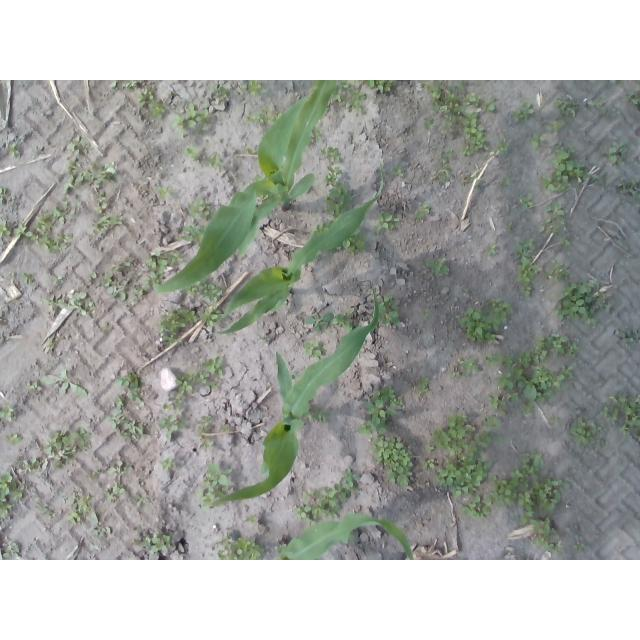Maize: (156, 80, 338, 293), (215, 285, 377, 506), (216, 161, 385, 338), (266, 513, 414, 560)
Weeds: (296, 468, 361, 524), (489, 450, 544, 507), (515, 473, 571, 527), (495, 365, 574, 403), (552, 279, 612, 329), (455, 296, 514, 344), (434, 457, 495, 500), (541, 140, 590, 192), (356, 385, 404, 437), (371, 434, 416, 489), (425, 412, 476, 456), (43, 427, 93, 469), (61, 158, 115, 195), (425, 80, 464, 124), (514, 239, 543, 298), (106, 395, 143, 441), (197, 462, 231, 512), (157, 306, 198, 347), (600, 393, 640, 435), (43, 289, 96, 318), (40, 368, 88, 398), (170, 103, 211, 137), (529, 517, 563, 556), (568, 416, 609, 448), (460, 112, 489, 157), (534, 333, 579, 360), (0, 469, 24, 518), (176, 368, 218, 396), (217, 536, 264, 560), (182, 275, 223, 302), (325, 87, 367, 113), (324, 181, 352, 219), (538, 200, 567, 236), (66, 490, 94, 525), (30, 231, 74, 253), (468, 430, 505, 456), (145, 251, 168, 289), (340, 227, 368, 257), (133, 533, 171, 555), (460, 495, 493, 520), (104, 267, 128, 301), (375, 295, 402, 325), (157, 415, 187, 442), (245, 107, 283, 126), (91, 214, 122, 236), (178, 225, 207, 248), (544, 258, 570, 283), (195, 415, 214, 449), (113, 370, 145, 390), (451, 358, 480, 379), (604, 140, 629, 164), (303, 311, 331, 332), (300, 405, 332, 423), (187, 198, 212, 221), (331, 308, 355, 331), (89, 510, 108, 539), (511, 100, 534, 123), (556, 95, 580, 117), (199, 304, 221, 328), (373, 212, 399, 232), (32, 213, 54, 236), (424, 257, 450, 276), (66, 135, 90, 155), (301, 340, 324, 360), (202, 354, 225, 374), (486, 395, 509, 415), (162, 395, 186, 414), (52, 200, 70, 225), (240, 80, 265, 98), (484, 353, 513, 368), (107, 460, 134, 476), (619, 180, 640, 200), (433, 161, 452, 183), (93, 189, 109, 215), (148, 102, 168, 122), (323, 166, 342, 186), (617, 328, 640, 344), (517, 192, 536, 211), (588, 98, 609, 115), (462, 92, 483, 109), (103, 485, 124, 502), (367, 80, 394, 93), (520, 399, 538, 418), (320, 146, 340, 163), (164, 248, 184, 265), (138, 88, 155, 108), (184, 142, 201, 162), (12, 222, 33, 238), (211, 85, 229, 103), (518, 349, 535, 368), (482, 415, 503, 430), (544, 119, 565, 134), (2, 544, 22, 559), (22, 458, 42, 473), (311, 220, 334, 233), (414, 376, 431, 393), (36, 499, 52, 517), (159, 456, 177, 472), (205, 153, 224, 168), (529, 133, 547, 148), (0, 403, 14, 420), (310, 125, 323, 143), (5, 432, 23, 445), (417, 204, 432, 219), (126, 390, 143, 403), (1, 218, 12, 238), (154, 185, 172, 197), (420, 458, 436, 471), (131, 290, 144, 306), (438, 147, 453, 160), (628, 90, 640, 106), (7, 142, 19, 158), (336, 81, 363, 88), (28, 381, 44, 392), (240, 145, 256, 156), (495, 140, 509, 152), (590, 171, 605, 182), (485, 97, 496, 112), (134, 495, 149, 506), (19, 273, 34, 284), (440, 120, 452, 133), (390, 166, 404, 177), (123, 80, 138, 90), (573, 541, 585, 552), (486, 244, 498, 255), (421, 308, 431, 321), (51, 275, 64, 285), (607, 81, 625, 88), (501, 174, 511, 186), (120, 261, 132, 271), (45, 339, 57, 349), (548, 416, 560, 426), (425, 119, 434, 132), (329, 246, 343, 254), (89, 271, 100, 281), (0, 187, 6, 205), (246, 514, 257, 523), (559, 237, 571, 245), (459, 288, 469, 297), (506, 221, 514, 232), (89, 472, 100, 480), (465, 173, 473, 183), (110, 80, 119, 88), (168, 91, 176, 98)
